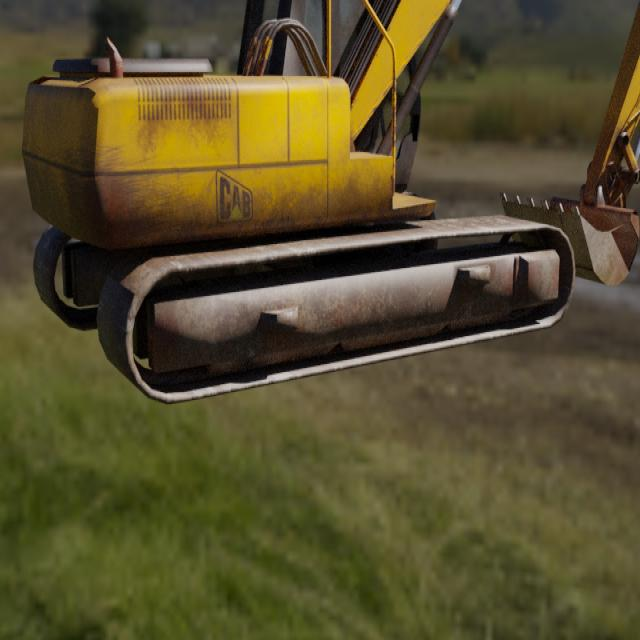excavator: (21, 0, 640, 407)
